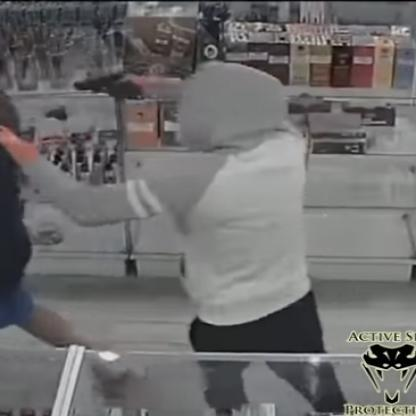criminal: (0, 61, 345, 411)
weapon: (71, 70, 148, 103)
